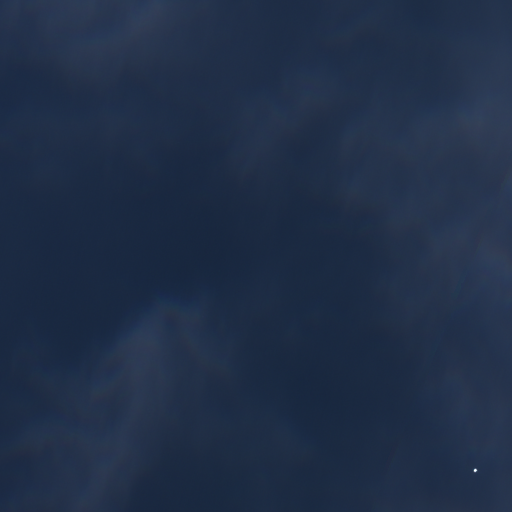Iceberg: (473, 468, 477, 472)
